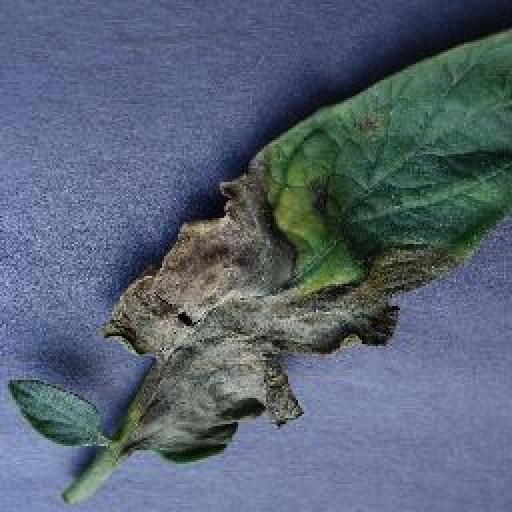disease_tomato: (106, 26, 512, 466)
